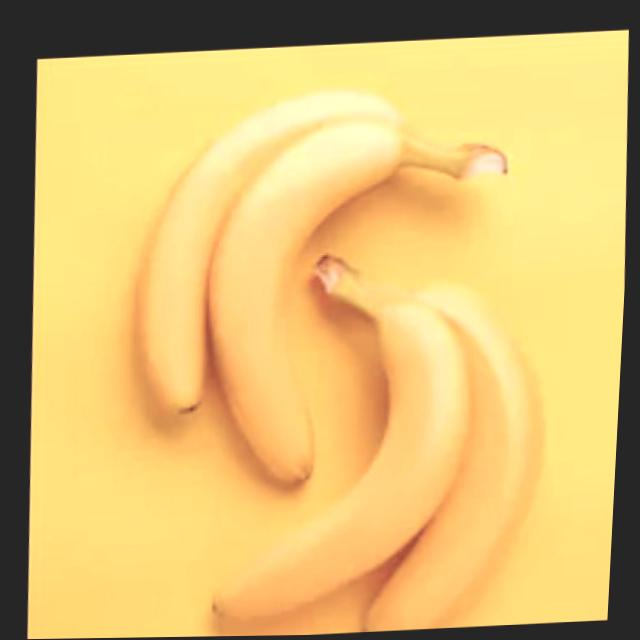Banana: (123, 82, 523, 496), (202, 242, 563, 637)
